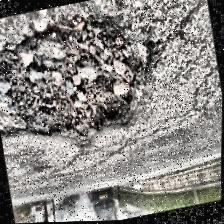pothole: (0, 2, 152, 166)
